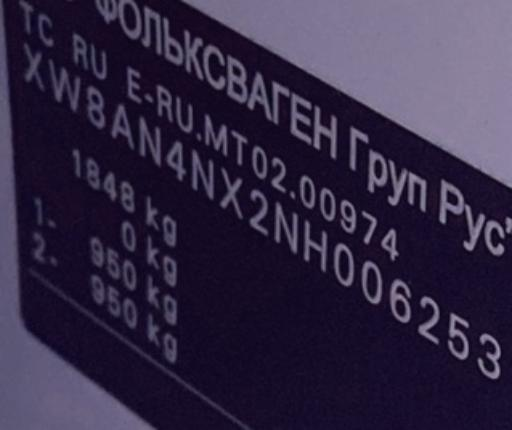letter: (43, 51, 81, 114), (182, 140, 216, 202), (105, 95, 137, 154), (444, 307, 476, 364), (16, 40, 48, 94), (271, 195, 299, 253), (331, 234, 359, 291), (476, 324, 504, 381), (138, 112, 164, 169), (218, 163, 244, 219), (386, 275, 412, 328), (304, 215, 328, 272), (358, 254, 382, 311), (416, 287, 440, 344), (81, 76, 105, 133), (164, 130, 188, 186), (247, 183, 271, 237)
